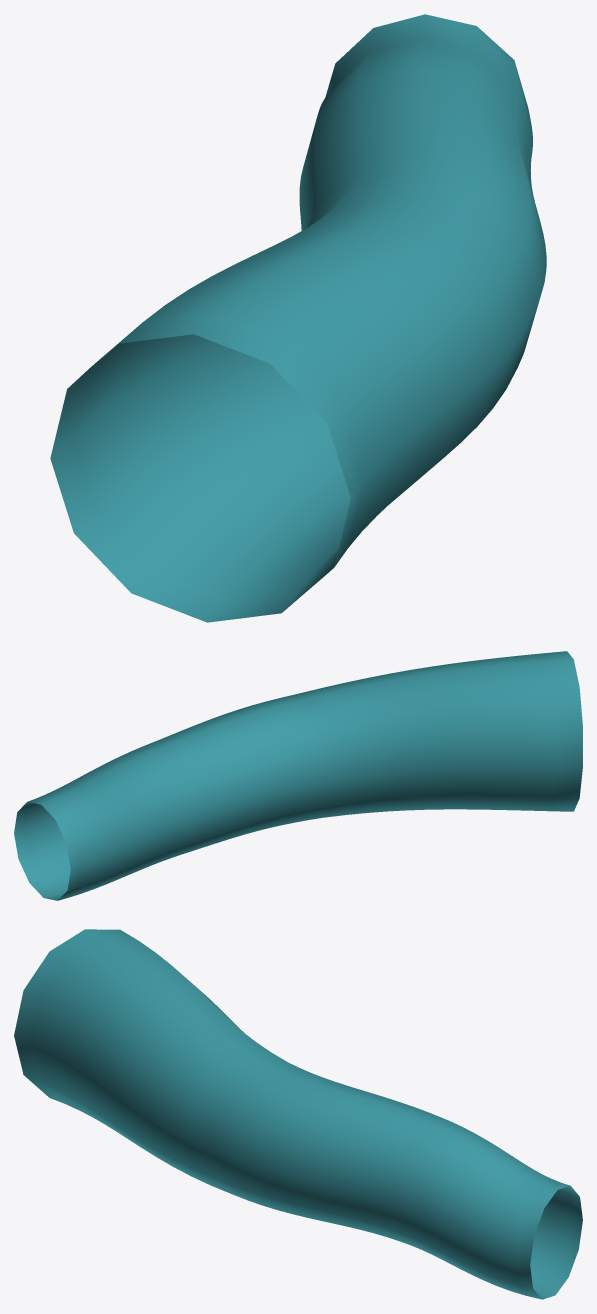
3 renders of one model, top to bottom at view 1: azimuth 30°, elevation 25°; view 2: azimuth 150°, elevation 25°; view 3: azimuth 270°, elevation 25°, orthographic. The views are drawn at different scales.
Parts seen in each view (by area): view 1: 左肺下叶支气管; view 2: 左肺下叶支气管; view 3: 左肺下叶支气管.
Boxes of the visible parts, box(x1,y1,x2,y2) form: 左肺下叶支气管: box(50, 14, 546, 622); 左肺下叶支气管: box(14, 651, 582, 900); 左肺下叶支气管: box(14, 929, 582, 1299).
Size of the model in its own units: 0.0597 by 0.0234 by 0.0643.
